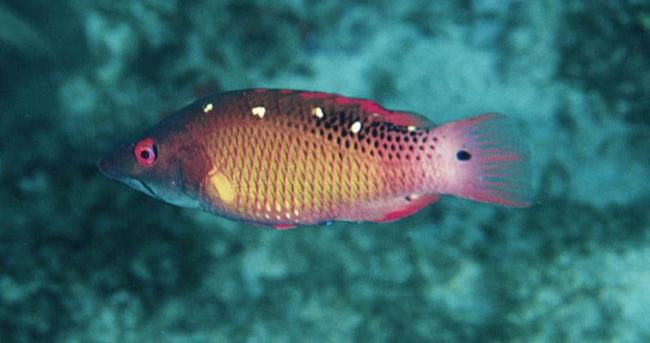fish: (98, 89, 538, 230)
